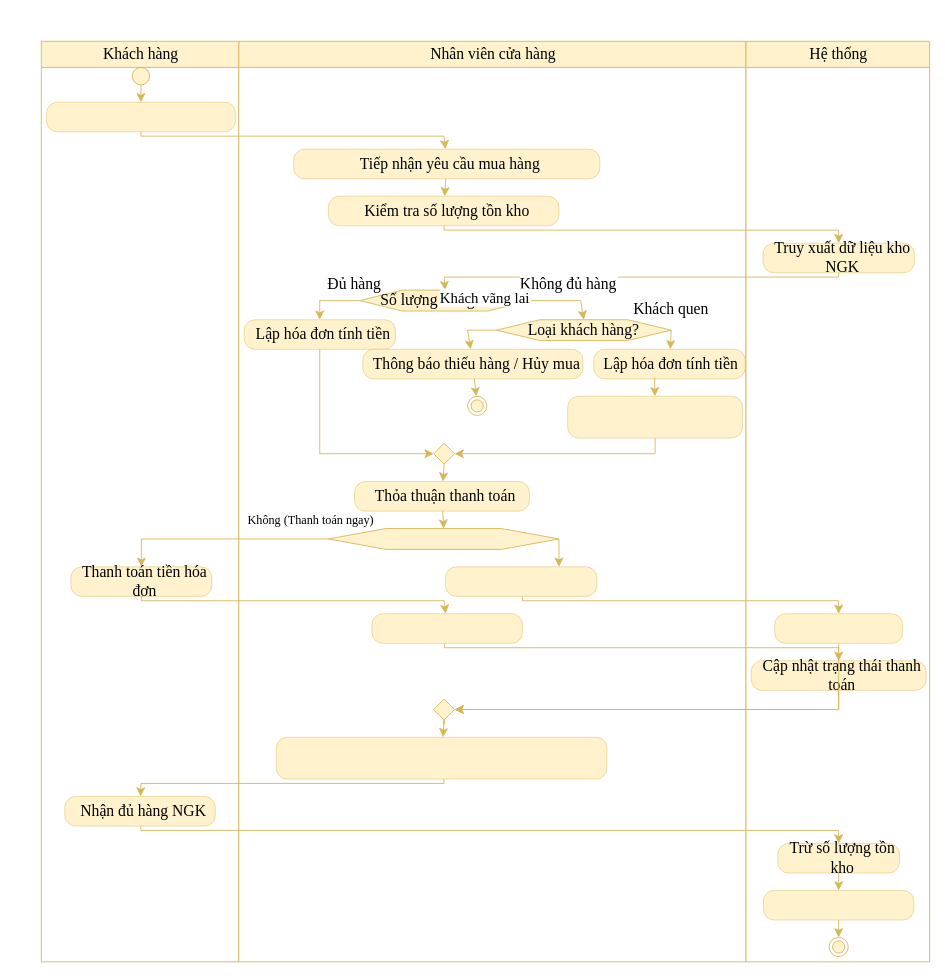
The diagram is 945 pixels wide and 977 high, and some of its shapes have lost their labels. Here are the shapes that lost their labels. From the top down, the centre of each, then its label:
At point (140, 117): "Yêu cầu mua nước giải khát (NGK)".
At point (654, 417): "Lập phiếu hẹn giao hàng (giao nhiều đợt)".
At point (443, 538): "Khách quen yêu cầu trả chậm?".
At point (521, 581): "Lập phiếu ghi nợ".
At point (446, 628): "Thu tiền & Xác nhận".
At point (838, 628): "Lưu thông tin công nợ".
At point (441, 758): "Thực hiện giao hàng (Giao ngay hoặc giao đợt 1 theo hẹn)".
At point (838, 905): "Lưu trữ hoàn tất giao dịch".
